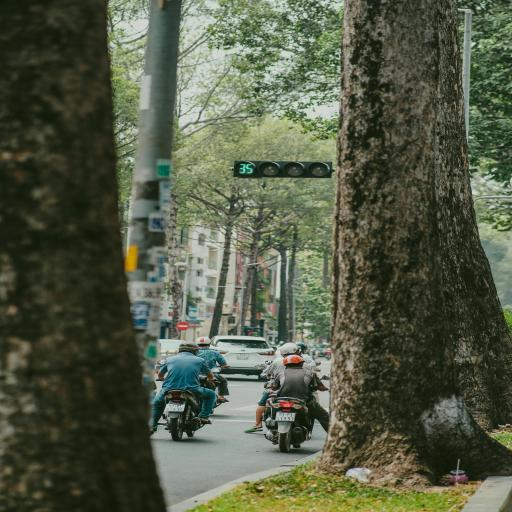place: (277, 412, 296, 420), (166, 404, 184, 410), (235, 353, 250, 360)
